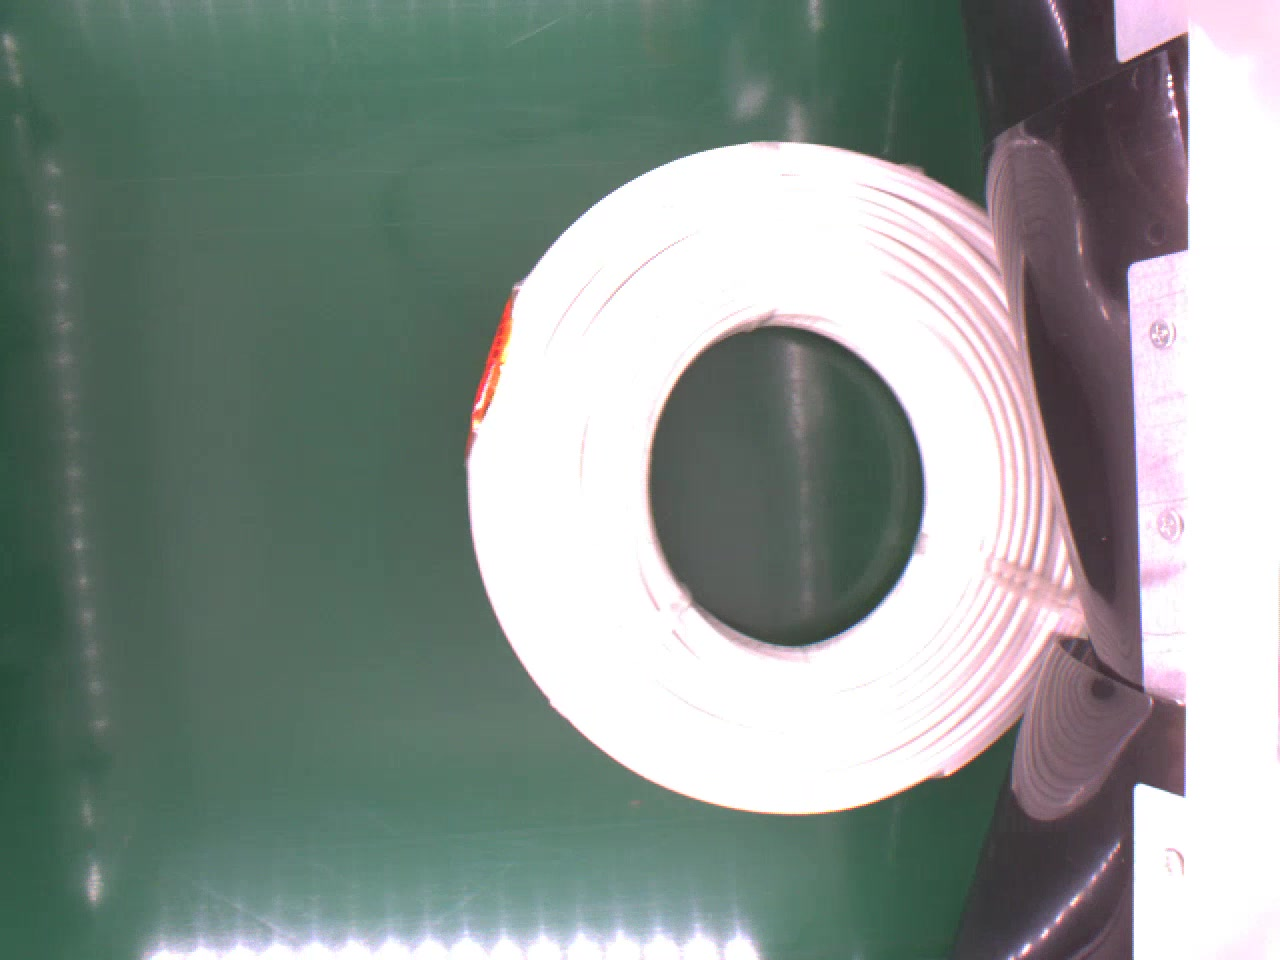white: (467, 139, 1096, 826)
